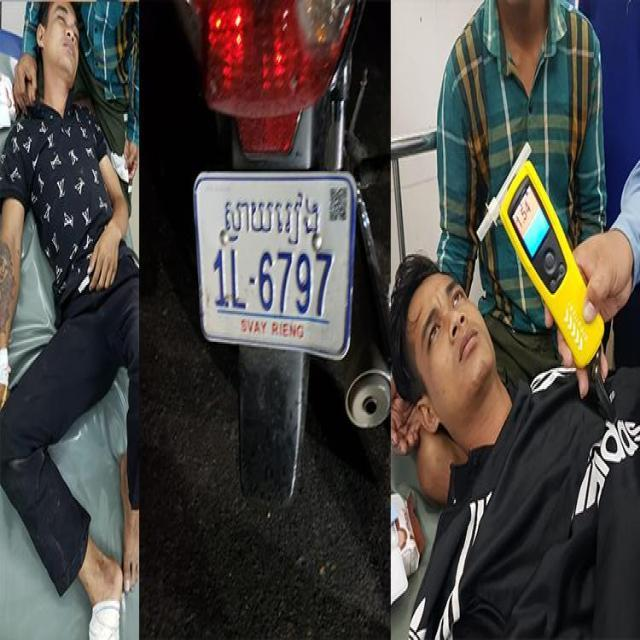Svay_Rieng: (224, 191, 320, 246)
